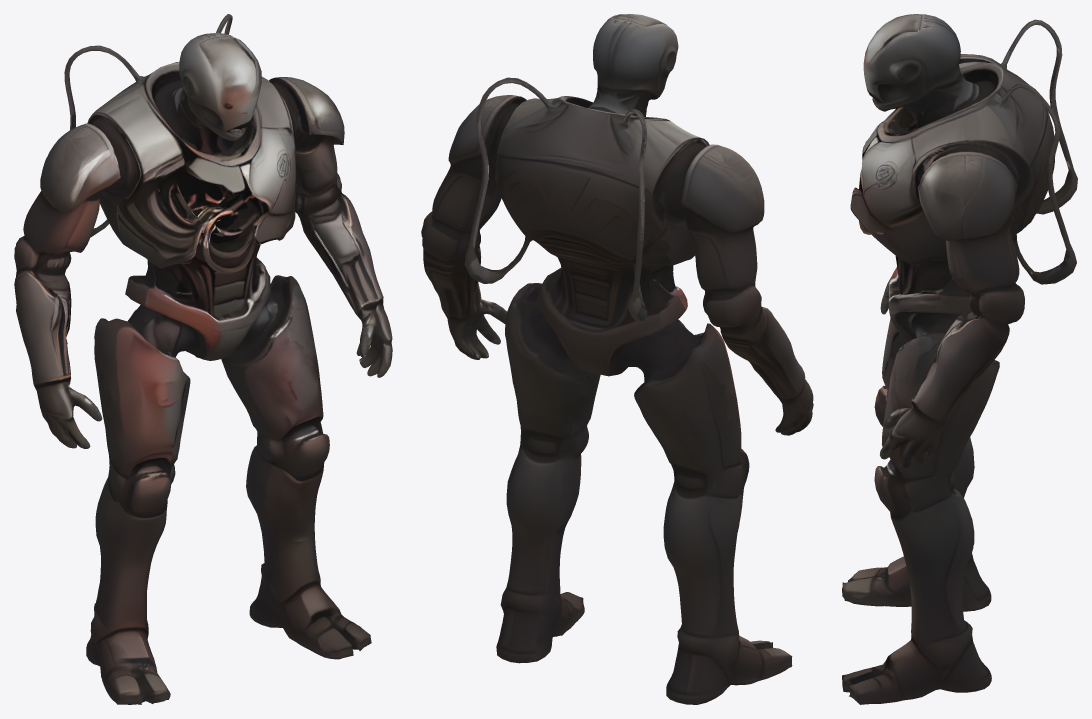
File: character_guard.glb
3 views of the same model, side by side, from view 1: azimuth 30°, elevation 25°; view 2: azimuth 150°, elevation 25°; view 3: azimuth 270°, elevation 25° (orthographic). The views are drawn at different scales.
Visible parts, largest first — view 1: model; view 2: model; view 3: model.
Part boxes in pixels (x1,y1,x2,y2): model: [14, 14, 392, 704]; model: [421, 14, 813, 704]; model: [842, 14, 1077, 704].
Size of the model in its own units: 1.12 by 1.9 by 0.6519.
1 material, 1 textured.
